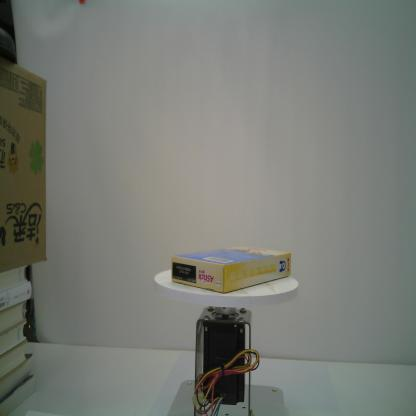Dessert: (169, 244, 293, 298)
